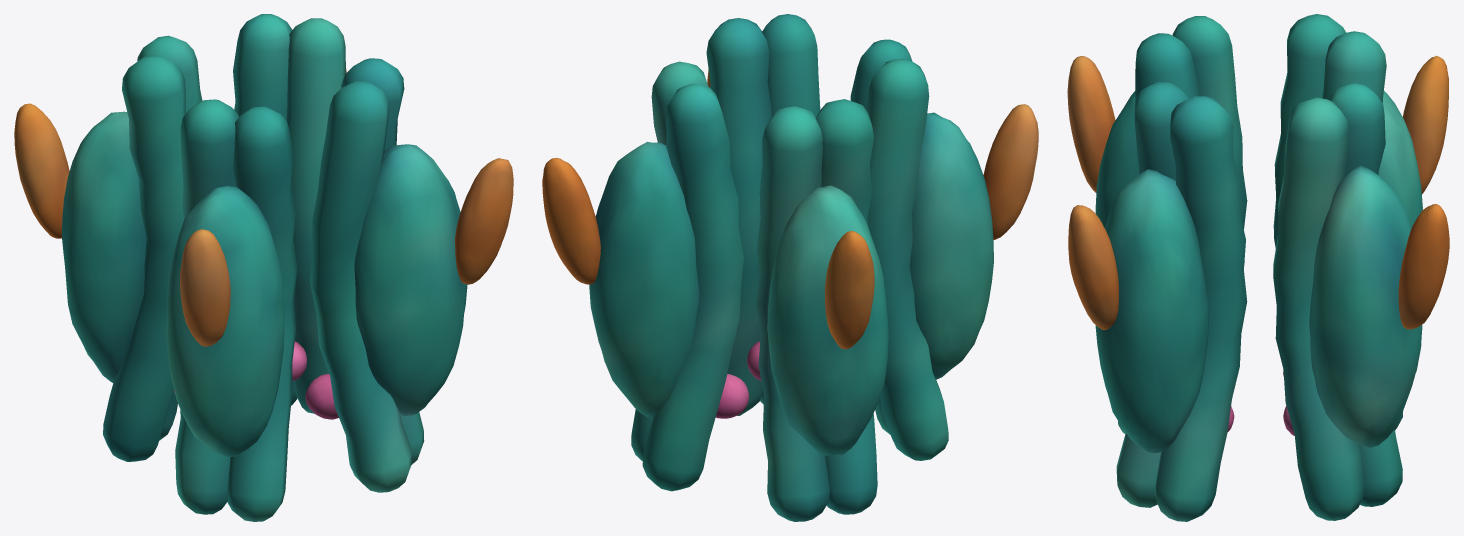
File: k-channel-open.glb
The picture shows the model from 3 angles, left to right: view 1: azimuth 30°, elevation 25°; view 2: azimuth 150°, elevation 25°; view 3: azimuth 270°, elevation 25°; orthographic projection. The views are drawn at different scales.
Visible parts, largest first — view 1: k-channel-open-domains, k-channel-open-paddles, k-channel-open-gate; view 2: k-channel-open-domains, k-channel-open-paddles, k-channel-open-gate; view 3: k-channel-open-domains, k-channel-open-paddles.
Boxes of the visible parts, bbox=[...] form: k-channel-open-domains: bbox=[62, 14, 467, 521]; k-channel-open-paddles: bbox=[14, 69, 513, 346]; k-channel-open-gate: bbox=[173, 341, 338, 419]; k-channel-open-domains: bbox=[589, 14, 993, 521]; k-channel-open-paddles: bbox=[542, 69, 1038, 349]; k-channel-open-gate: bbox=[715, 341, 761, 418]; k-channel-open-domains: bbox=[1095, 14, 1422, 521]; k-channel-open-paddles: bbox=[1067, 55, 1449, 329].
Size of what is drawn, in the model's own units: 1.03 by 1.22 by 1.02.
